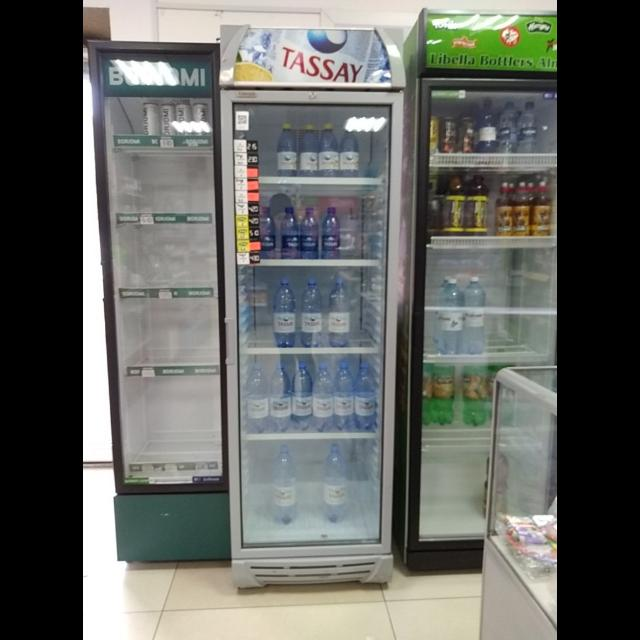Cooling-Display: (218, 22, 406, 584)
